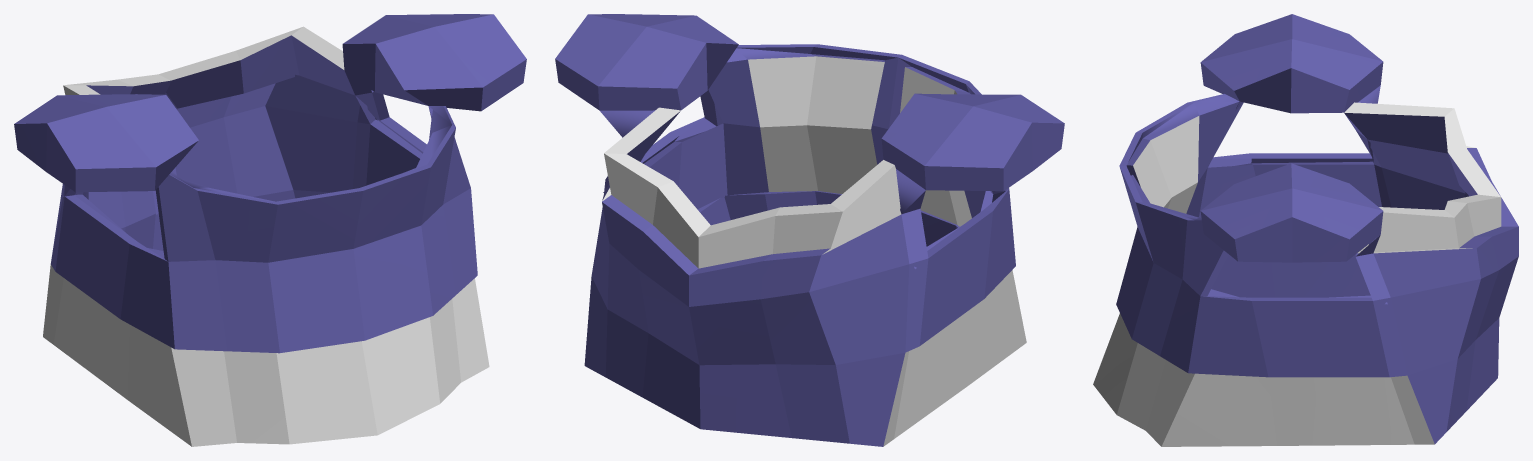
File: FootballArmor.gltf
The picture shows the model from 3 angles, left to right: view 1: azimuth 30°, elevation 25°; view 2: azimuth 150°, elevation 25°; view 3: azimuth 270°, elevation 25°; orthographic projection. The views are drawn at different scales.
Visible parts, largest first — view 1: AMERICAN FOOTBALL ARMOR; view 2: AMERICAN FOOTBALL ARMOR; view 3: AMERICAN FOOTBALL ARMOR.
Part boxes in pixels (x1,y1,x2,y2): AMERICAN FOOTBALL ARMOR: (14, 14, 526, 446); AMERICAN FOOTBALL ARMOR: (555, 14, 1064, 446); AMERICAN FOOTBALL ARMOR: (1093, 14, 1518, 446).
Size of the model in its own units: 0.5586 by 0.3464 by 0.4901.
1 material, 1 textured.
